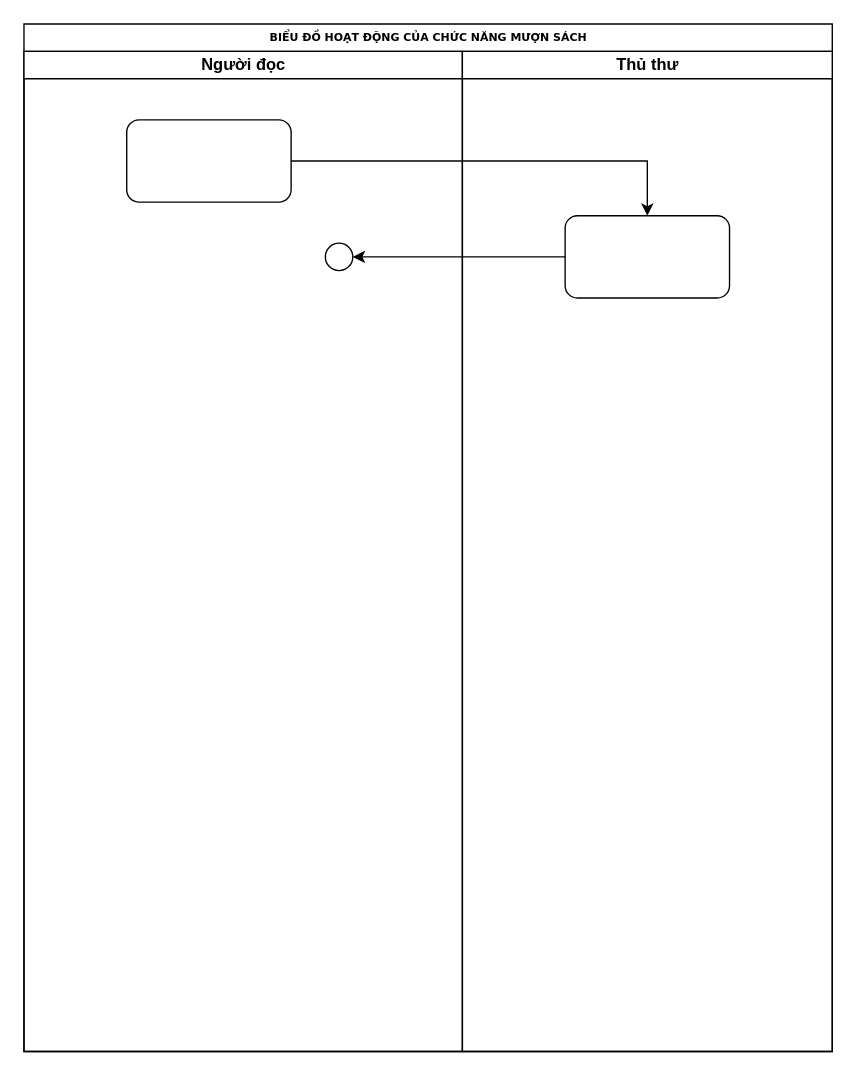
Image size: 856x1075. Some labels were removed from this diagram. The centre of each missing label's shape, as x and y in pixels:
"Yêu cầu mượn sách" belongs at point 208,160.
"Yêu cầu xuất trình thẻ thư viện" belongs at point 647,256.
